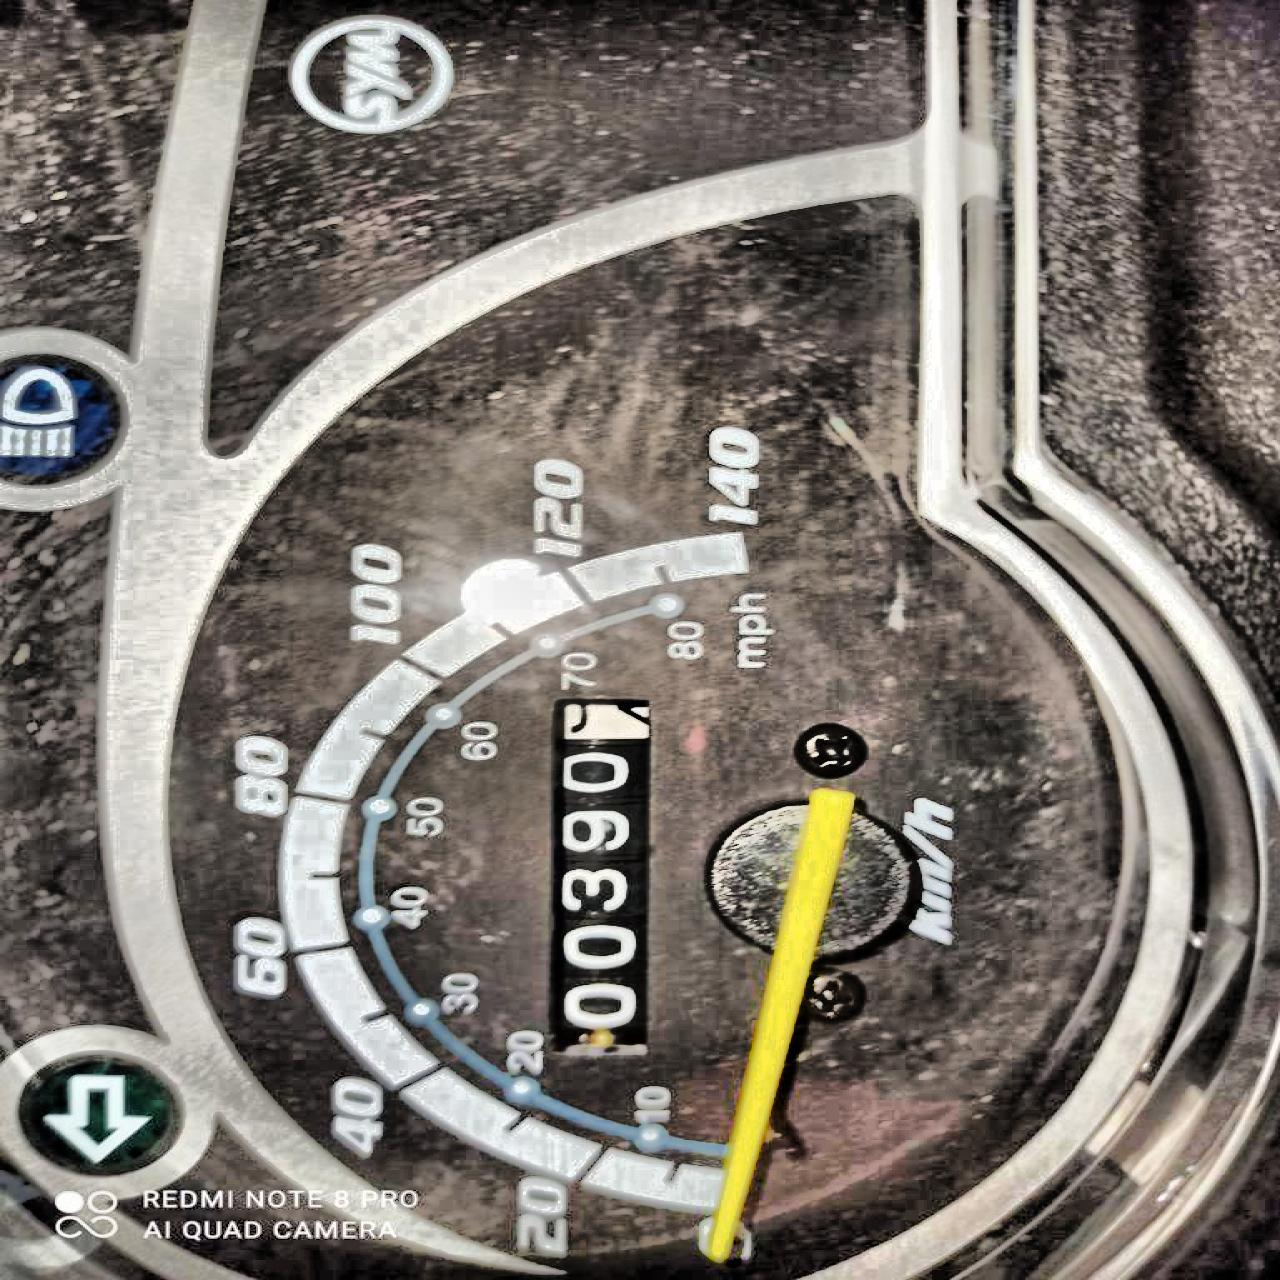0: (554, 980, 638, 1030), (554, 748, 633, 797), (558, 922, 640, 969)
3: (554, 864, 631, 914)
4: (607, 694, 667, 738)
9: (554, 805, 639, 853)
odometer: (544, 686, 674, 1058)
